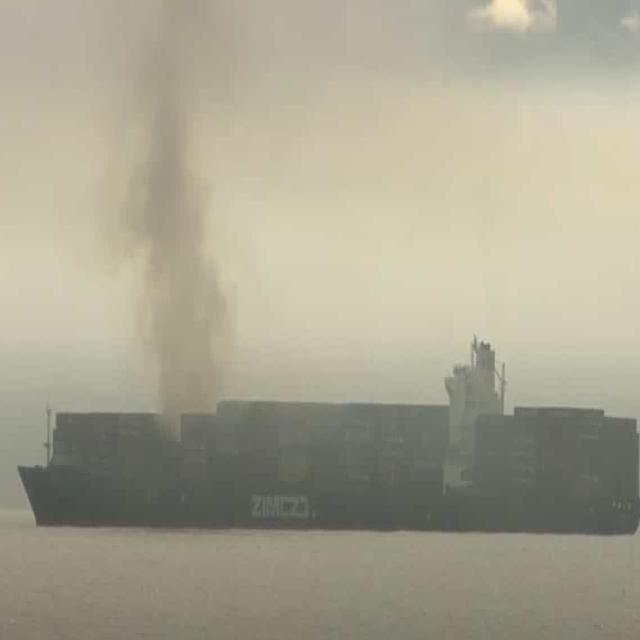cargoship: (25, 339, 640, 546)
